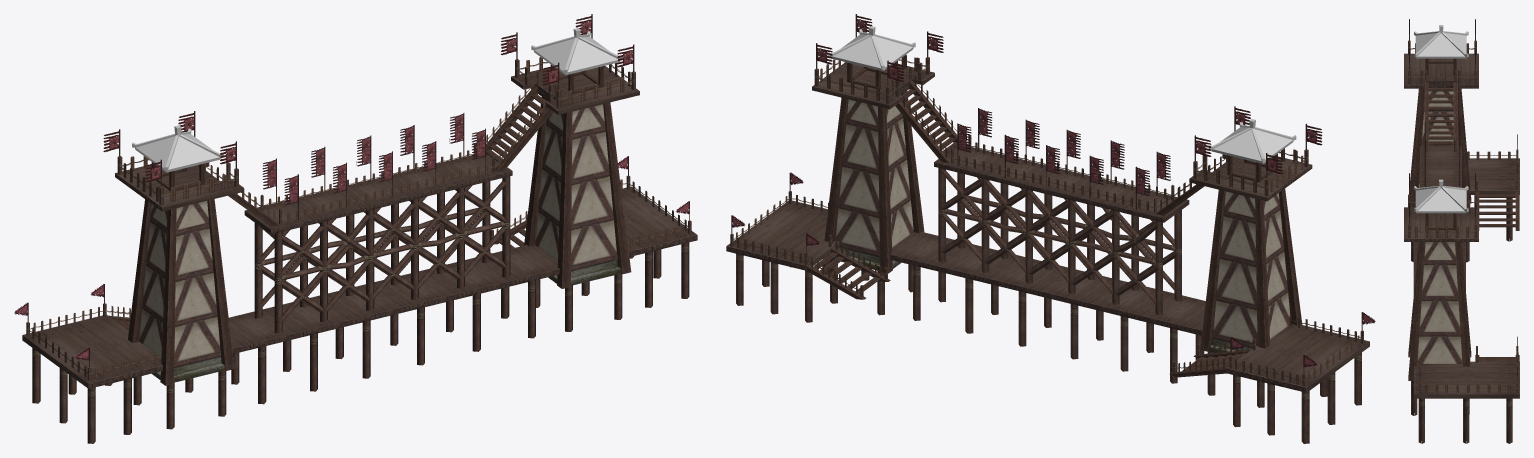
The model's file is talou_shuizhai_40.FBX.
3 views of the same model, side by side, from view 1: azimuth 30°, elevation 25°; view 2: azimuth 150°, elevation 25°; view 3: azimuth 270°, elevation 25° (orthographic). The views are drawn at different scales.
Visible parts, largest first — view 1: talou_shuizhai_40; view 2: talou_shuizhai_40; view 3: talou_shuizhai_40.
Boxes of the visible parts, left/top/right/bottom form: talou_shuizhai_40: left=14, top=14, right=697, bottom=443; talou_shuizhai_40: left=726, top=14, right=1375, bottom=443; talou_shuizhai_40: left=1404, top=19, right=1519, bottom=443.
Size of what is drawn, in the model's own units: 6256 by 2732 by 1278.
